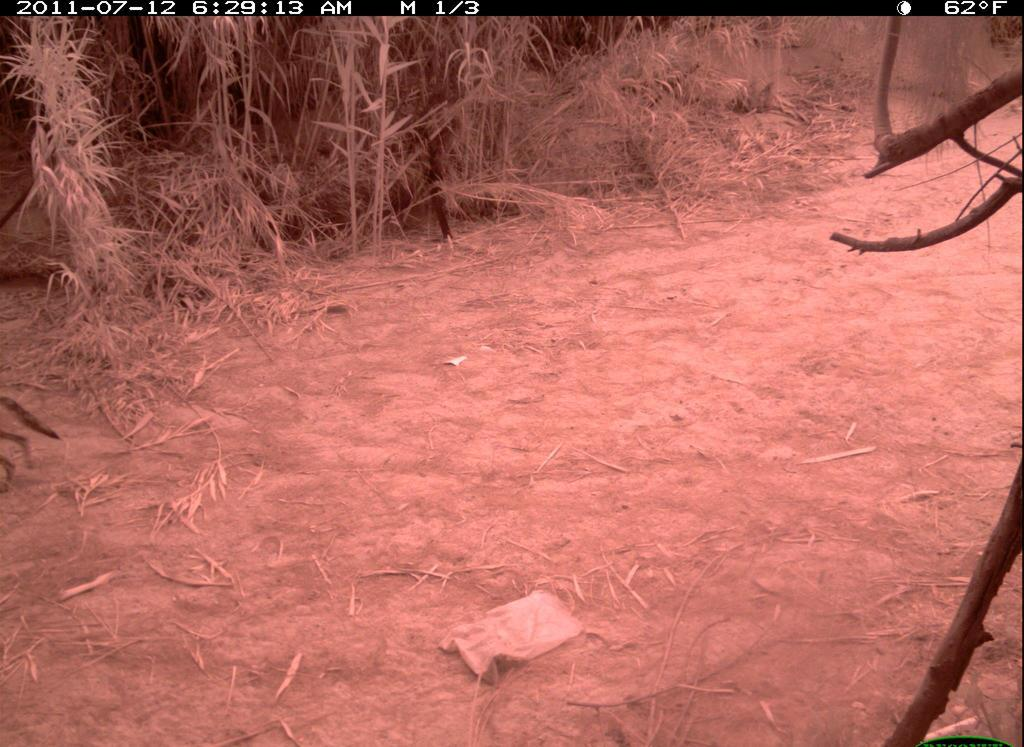coyote: (2, 390, 66, 489)
